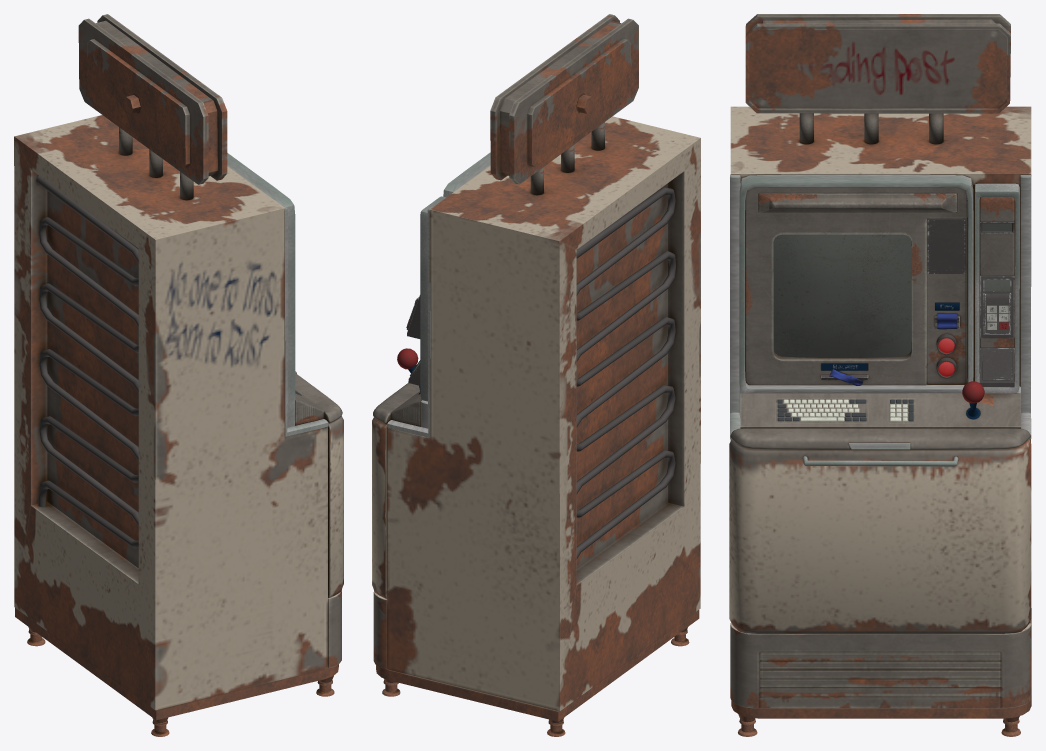
The model's file is Machine4.glb.
3 views of the same model, side by side, from view 1: azimuth 30°, elevation 25°; view 2: azimuth 150°, elevation 25°; view 3: azimuth 270°, elevation 25° (orthographic). The views are drawn at different scales.
Parts seen in each view (by area): view 1: FridgeBody_low, NeonSign_low, Condenser_low, FridgeBottom_low, FridgeDoor_low, TVframe_low, Fridgeframe_low, FridgeVent_low, NeonSignHolder_low, FridgeDoorCap_low, Legs_low, Keyboard_low; view 2: FridgeBody_low, NeonSign_low, Condenser_low, FridgeBottom_low, FridgeDoor_low, ControlPanelFrame_low, Fridgeframe_low, FridgeVent_low, NeonSignHolder_low, FridgeDoorCap_low, Legs_low, Keyboard_low (+1 smaller); view 3: FridgeDoor_low, NeonSign_low, FridgeVent_low, FridgeBody_low, TVScreen_low, TV_low, Keyboard_low, TVframe_low, FridgeDoorCap_low, Fridgeframe_low, VentTop_low, TVside_low (+14 smaller).
Part boxes in pixels (x1,y1,x2,y2): FridgeBody_low: (14,115,327,710); NeonSign_low: (78,14,227,184); Condenser_low: (36,176,138,548); FridgeBottom_low: (15,608,338,720); FridgeDoor_low: (328,416,343,597); TVframe_low: (227,153,295,427); Fridgeframe_low: (282,205,328,436); FridgeVent_low: (328,590,341,668); NeonSignHolder_low: (119,127,193,200); FridgeDoorCap_low: (295,373,342,422); Legs_low: (27,627,334,736); Keyboard_low: (295,390,324,425); FridgeBody_low: (387,116,700,711); NeonSign_low: (490,14,638,184); Condenser_low: (576,187,675,559); FridgeBottom_low: (376,610,699,721); FridgeDoor_low: (372,417,387,598); ControlPanelFrame_low: (420,196,445,401); Fridgeframe_low: (387,206,433,437); FridgeVent_low: (373,591,387,669); NeonSignHolder_low: (530,122,604,195); FridgeDoorCap_low: (373,383,419,423); Legs_low: (382,627,689,736); Keyboard_low: (391,391,421,426); FridgeDoor_low: (729,439,1031,633); NeonSign_low: (745,14,1010,113); FridgeVent_low: (730,623,1031,708); FridgeBody_low: (730,106,1031,622); TVScreen_low: (773,234,911,357); TV_low: (745,187,967,385); Keyboard_low: (740,393,1020,428); TVframe_low: (739,174,973,417); FridgeDoorCap_low: (730,428,1030,449); Fridgeframe_low: (730,174,1031,439); VentTop_low: (758,193,957,212); TVside_low: (927,219,966,384).
Bounding box in the file's own units: 0.8249 × 2.34 × 0.9764.
Materials: 1 (1 with a texture image).
